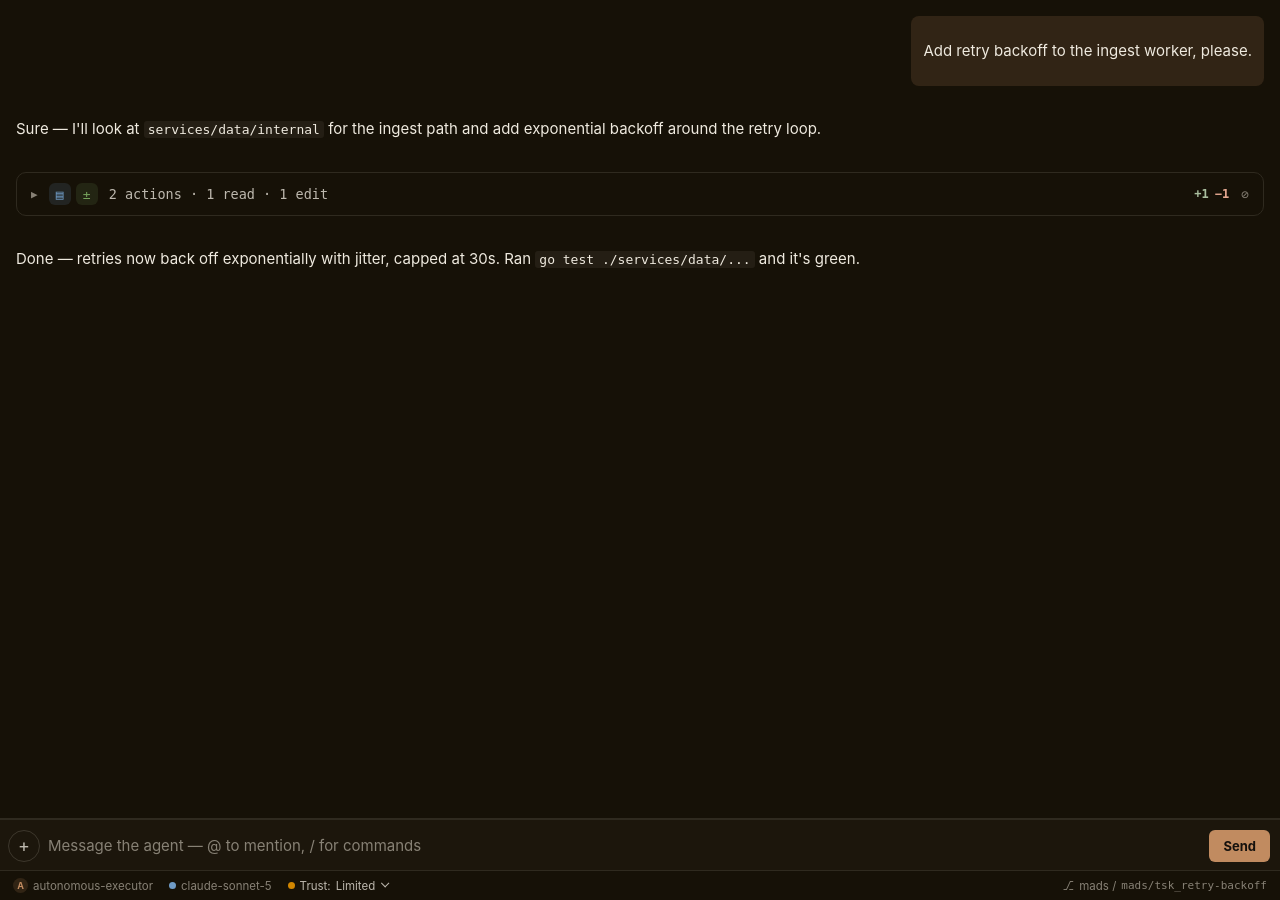
Scenario: ConversationTab › switches to terminal display mode using the session's own transport, not the shell host
What coordinates should you click on to do the following:
click the button named "Input options"
I would click on:
 (24, 846)
Its box is [8,830,40,862].
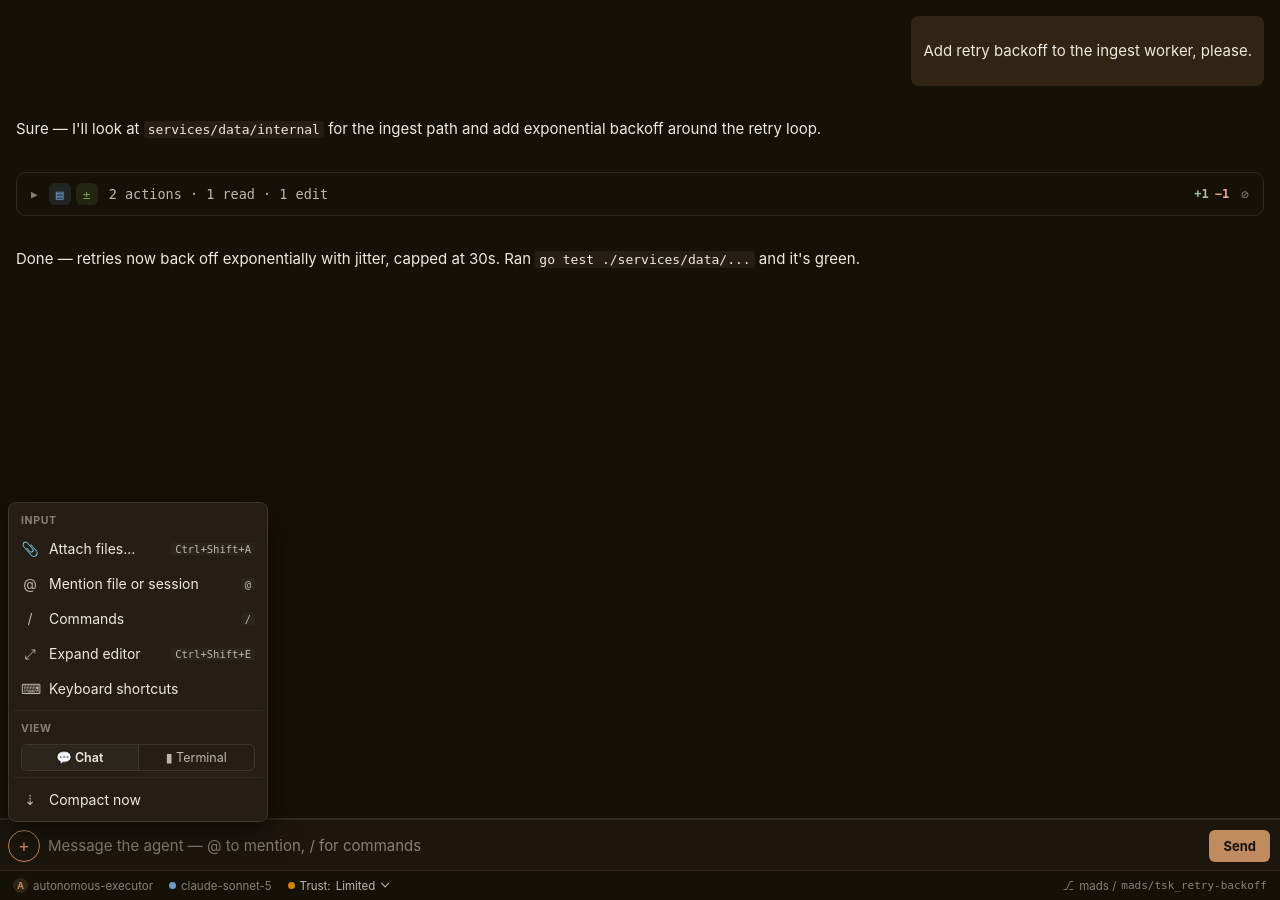
What coordinates should you click on to do the following:
click the button "▮ Terminal"
I would click on:
 (196, 758)
Its box is [138,745,254,770].
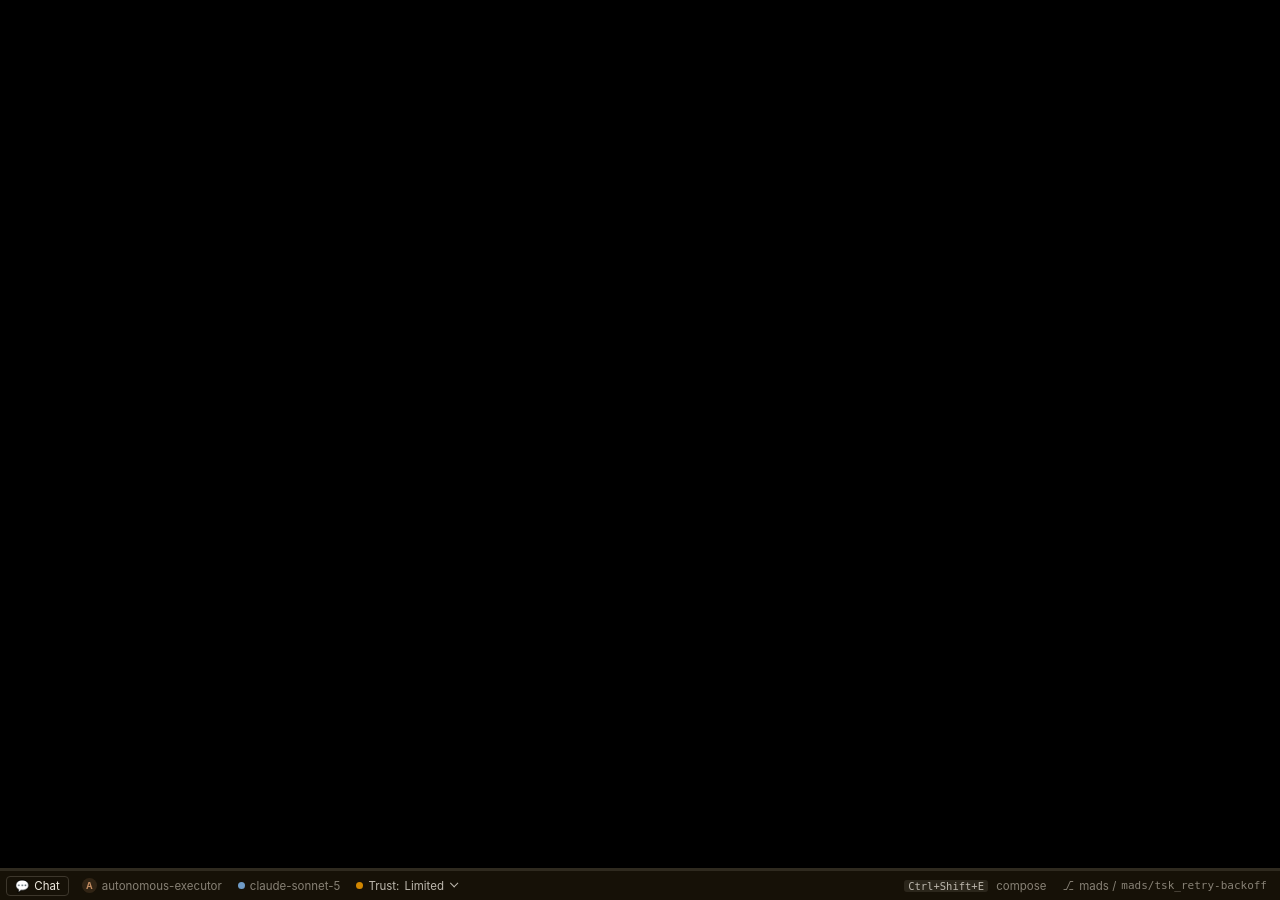
Expected: the element with test id "terminal-view" is shown
